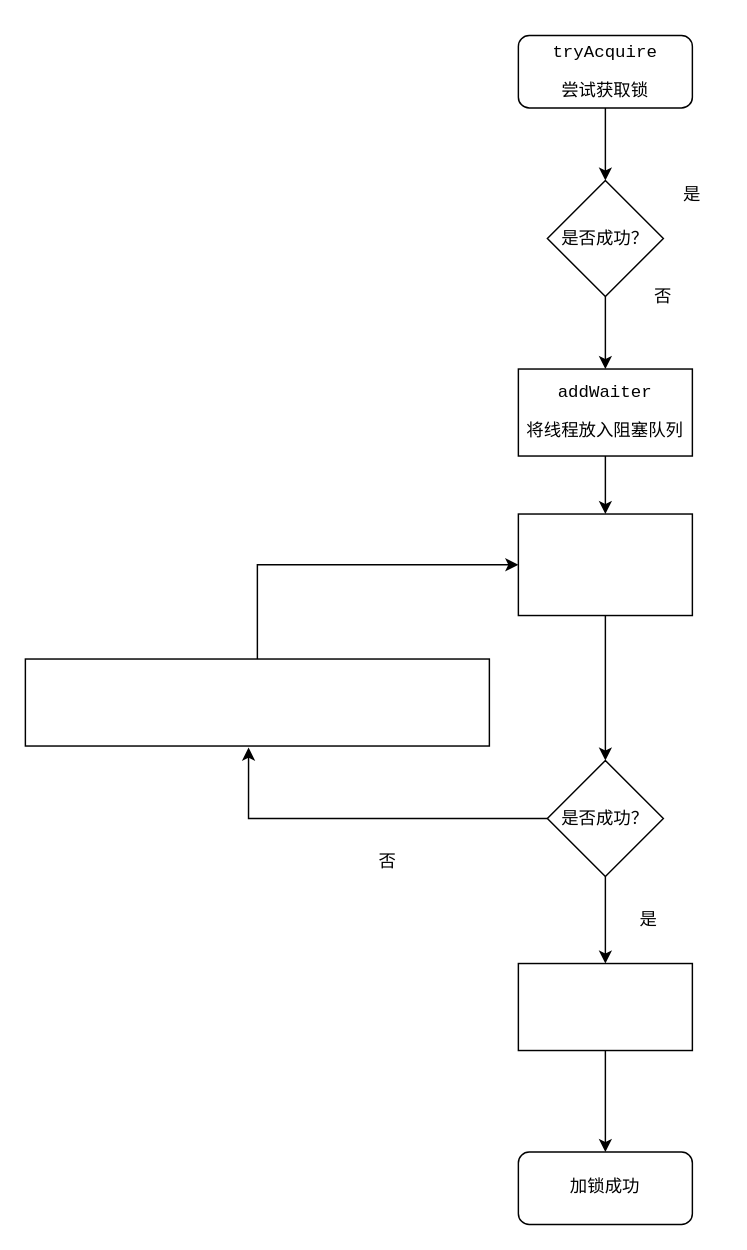
The diagram is 747 pixels wide and 1250 high, and some of its shapes have lost their labels. Each missing label, with the centre of its shape:
acquireQueued 如果是第二个节点 尝试获取一波锁: the point at 604,564
shouldParkAfterFailedAcquire 休眠: the point at 256,702
将队首设置为 获取锁成功的节点: the point at 604,1006
